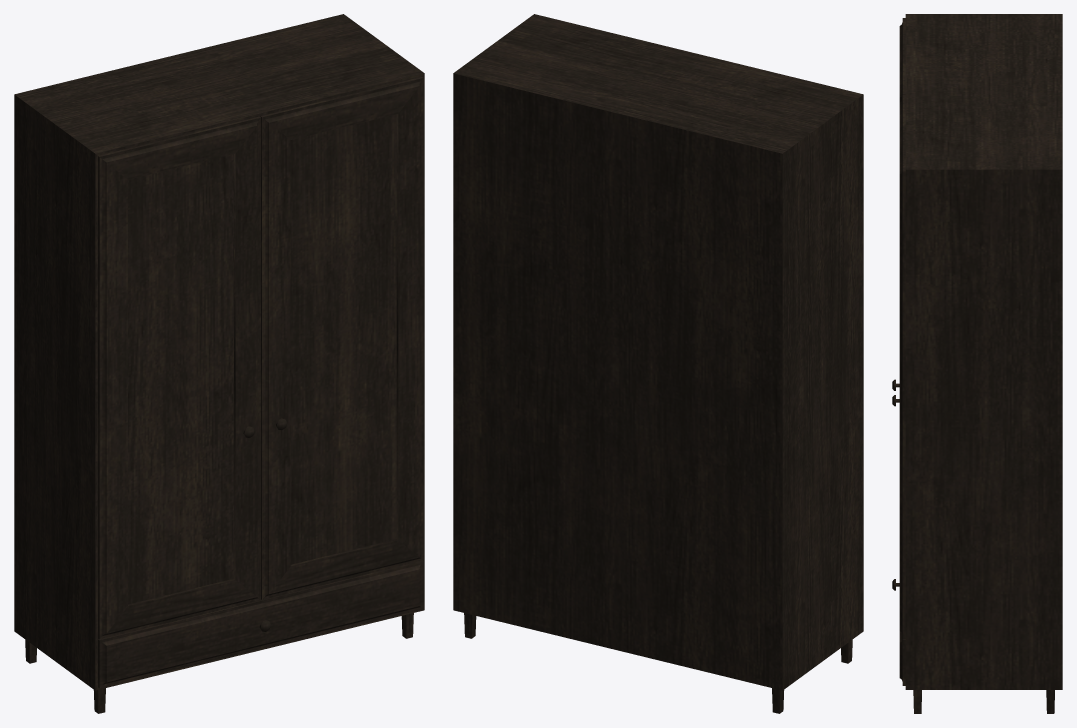
File: wardrobe_mp_1_2.fbx
3 renders of one model, left to right at view 1: azimuth 30°, elevation 25°; view 2: azimuth 150°, elevation 25°; view 3: azimuth 270°, elevation 25°, orthographic. The views are drawn at different scales.
Visible parts, largest first — view 1: wardrobe_mp_1_2, wardrobe_mp_1_2_drawer; view 2: wardrobe_mp_1_2; view 3: wardrobe_mp_1_2, wardrobe_mp_1_2_drawer.
Boxes of the visible parts, x1,y1,x2,y2 form: wardrobe_mp_1_2: (14,14,424,713); wardrobe_mp_1_2_drawer: (98,561,423,688); wardrobe_mp_1_2: (453,14,863,713); wardrobe_mp_1_2: (892,14,1062,713); wardrobe_mp_1_2_drawer: (892,579,905,685).
Size of the model in its own units: 1.22 by 0.5645 by 2.
